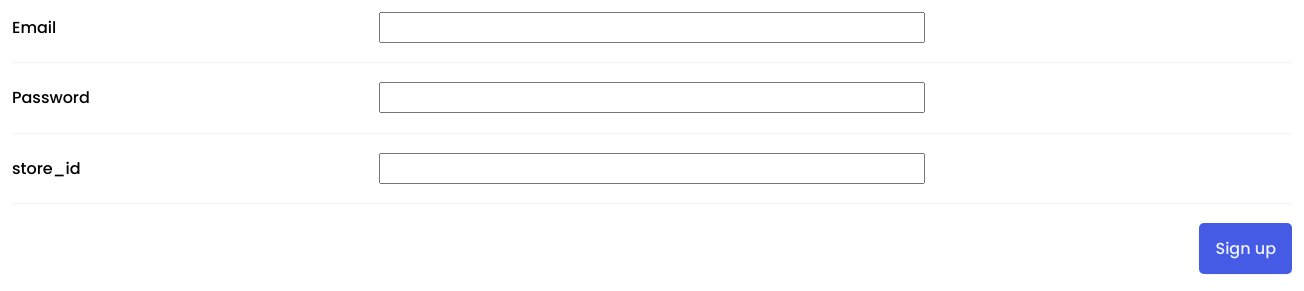
LoginForm › validates required fields (signup)
This screenshot has width=1304, height=291.
What coordinates should you click on to do the following:
click the button "Sign up"
I would click on:
 (1246, 248)
Its box is [1200, 223, 1292, 274].
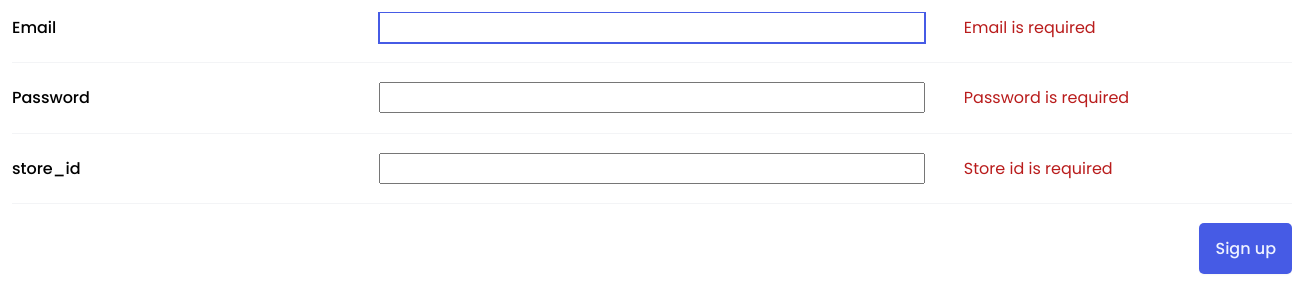
Expected: the text "Email is required" is shown, [964, 16, 1096, 39]
Expected: the text "Password is required" is shown, [964, 86, 1129, 109]
Expected: the text "Store id is required" is shown, [964, 157, 1113, 180]
